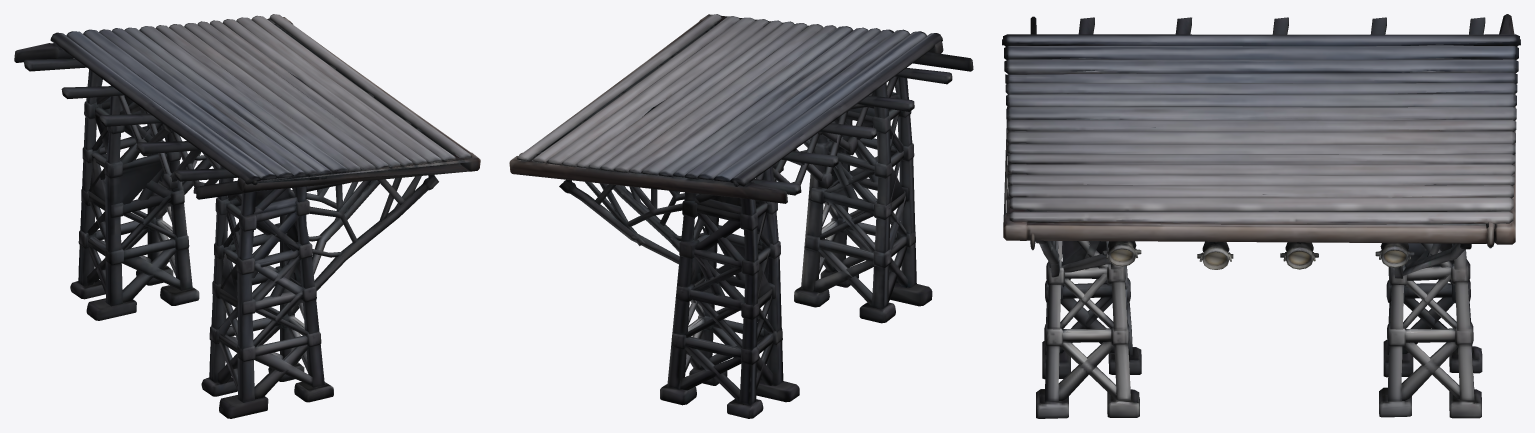
3 views of the same model, side by side, from view 1: azimuth 30°, elevation 25°; view 2: azimuth 150°, elevation 25°; view 3: azimuth 270°, elevation 25° (orthographic). The views are drawn at different scales.
Parts seen in each view (by area): view 1: tripo_node_1f46d3e6-618f-47f1-8433-5d6c96b8295a; view 2: tripo_node_1f46d3e6-618f-47f1-8433-5d6c96b8295a; view 3: tripo_node_1f46d3e6-618f-47f1-8433-5d6c96b8295a.
Part boxes in pixels (x1,y1,x2,y2): tripo_node_1f46d3e6-618f-47f1-8433-5d6c96b8295a: [14, 14, 480, 418]; tripo_node_1f46d3e6-618f-47f1-8433-5d6c96b8295a: [509, 14, 973, 418]; tripo_node_1f46d3e6-618f-47f1-8433-5d6c96b8295a: [1002, 14, 1520, 418].
Bounding box in the file's own units: 0.7944 × 0.6919 × 0.9995.
1 material, 1 textured.
